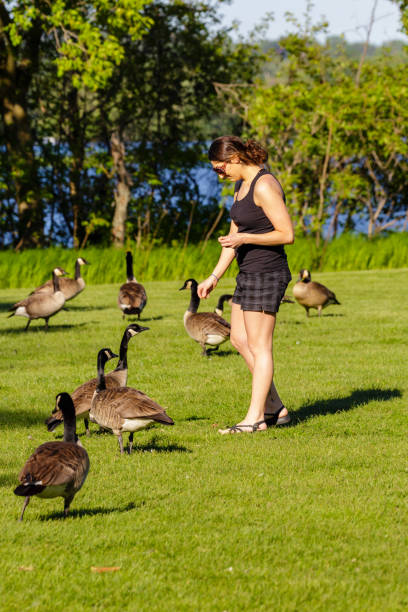goose: (1, 388, 93, 524), (48, 321, 152, 428), (83, 344, 176, 450), (172, 276, 236, 359), (3, 265, 70, 332), (29, 253, 96, 302), (290, 267, 343, 320), (116, 248, 150, 324)
